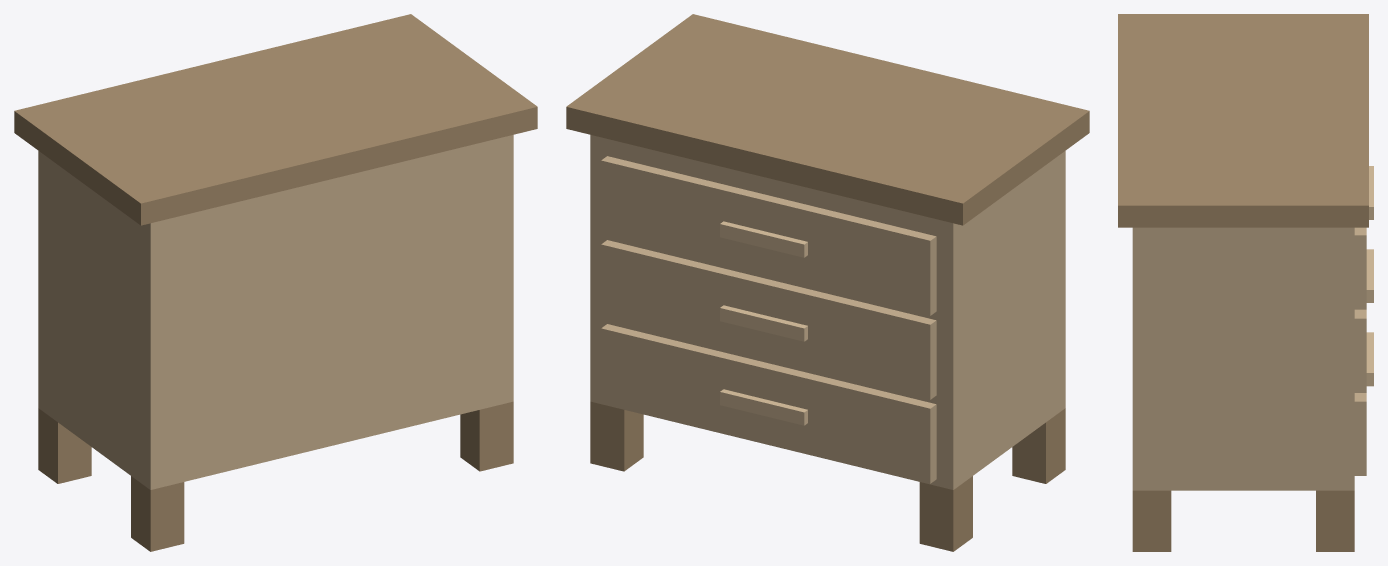
File: 18-Casas_comoda.glb
3 renders of one model, left to right at view 1: azimuth 30°, elevation 25°; view 2: azimuth 150°, elevation 25°; view 3: azimuth 270°, elevation 25°, orthographic.
Visible parts, largest first — view 1: SM_Comoda_M_Mueble_Madera_Clara, SM_Comoda_M_Mueble_Madera_Oscura; view 2: SM_Comoda_M_Mueble_Madera_Clara, SM_Comoda_M_Mueble_Madera_Oscura, SM_Comoda_M_Mueble_Bronce; view 3: SM_Comoda_M_Mueble_Madera_Clara, SM_Comoda_M_Mueble_Madera_Oscura, SM_Comoda_M_Mueble_Bronce.
Boxes of the visible parts, x1,y1,x2,y2 form: SM_Comoda_M_Mueble_Madera_Clara: (38,135,513,489); SM_Comoda_M_Mueble_Madera_Oscura: (14,14,537,551); SM_Comoda_M_Mueble_Madera_Clara: (590,135,1065,489); SM_Comoda_M_Mueble_Madera_Oscura: (566,14,1089,551); SM_Comoda_M_Mueble_Bronce: (720,221,807,425); SM_Comoda_M_Mueble_Madera_Clara: (1132,227,1366,490); SM_Comoda_M_Mueble_Madera_Oscura: (1118,14,1368,551); SM_Comoda_M_Mueble_Bronce: (1366,166,1373,386).
Size of the model in its own units: 0.94 by 0.81 by 0.53.
